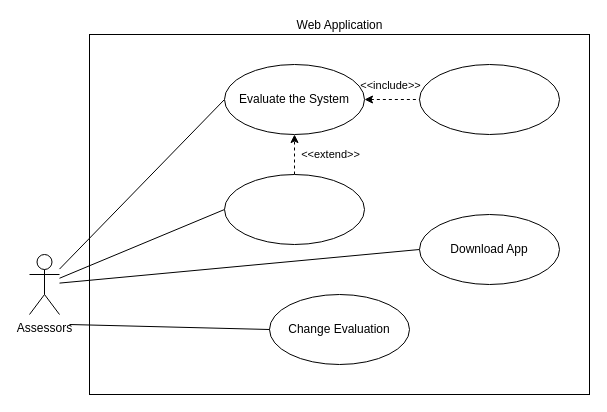
Image size: 607x412. Some labels were removed from this diagram. The shapes that lost their labels are listed below. From the top down, each one's box as (x1, y1, x2, y2) in pixels, then its label:
(418, 64, 560, 134): Save Results
(224, 174, 364, 244): Restore Results
